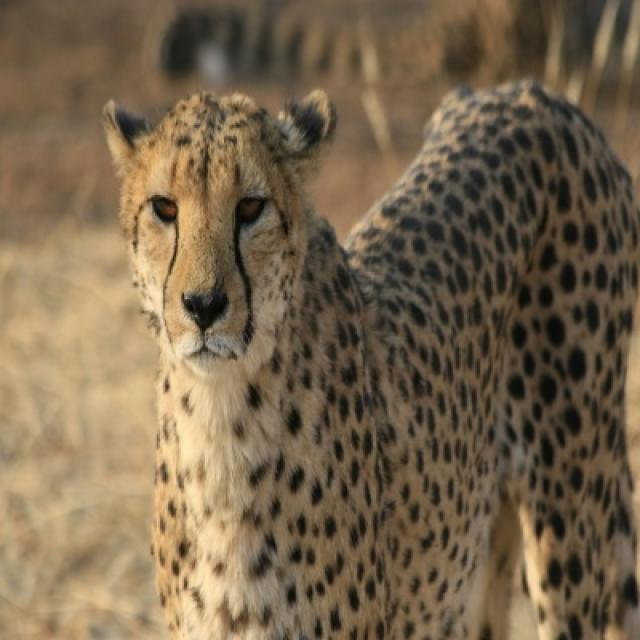Cheetah: (106, 78, 637, 638)
